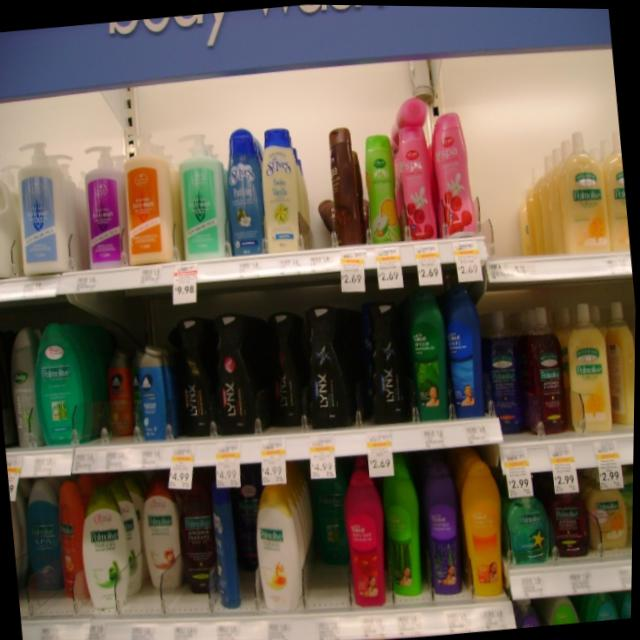q100: (60, 472, 145, 624)
